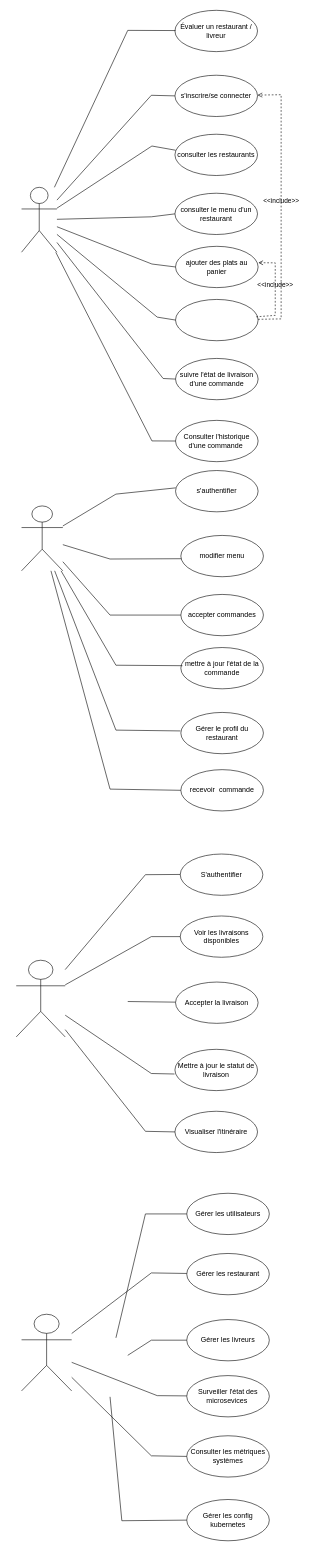
Image size: 309x1551. Some labels were removed from this diagram. The shapes that lost their labels are listed below. From the top down, each one's box as (x1, y1, x2, y2) in pixels, then its label:
(21, 187, 57, 252): Utilisateur
(175, 299, 258, 341): passer une commande
(21, 505, 63, 571): Restaurant manager
(16, 960, 65, 1037): Livreur
(21, 1314, 72, 1391): Admin
